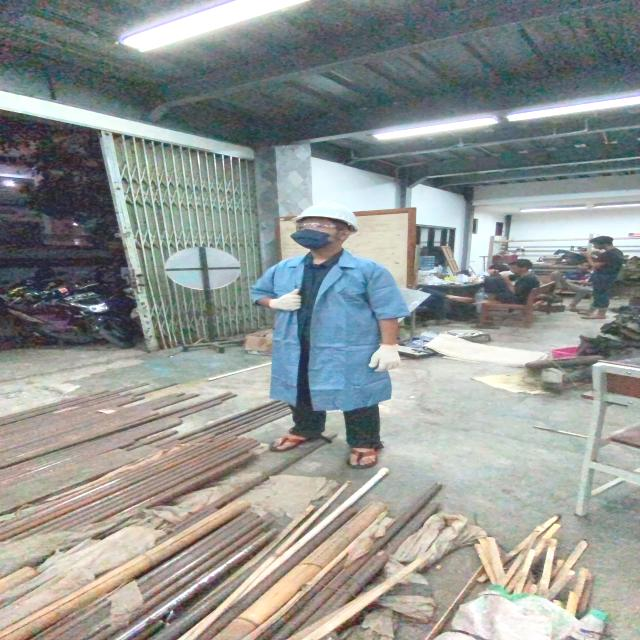face_mask: (290, 218, 340, 248)
glasses: (292, 222, 352, 234)
hand_glove: (364, 343, 405, 373), (267, 286, 309, 312)
head_helmet: (288, 200, 365, 228)
person: (252, 196, 414, 471)
